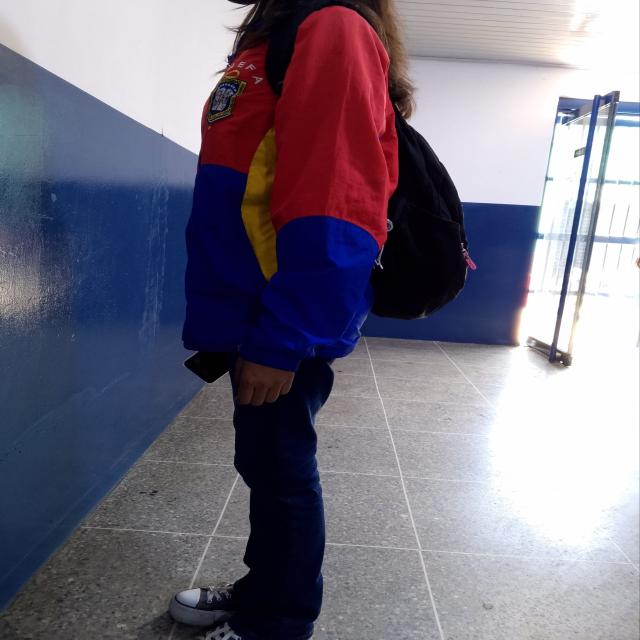chaqueta_unefa: (178, 0, 398, 375)
pantalon_oscuro: (229, 350, 336, 640)
